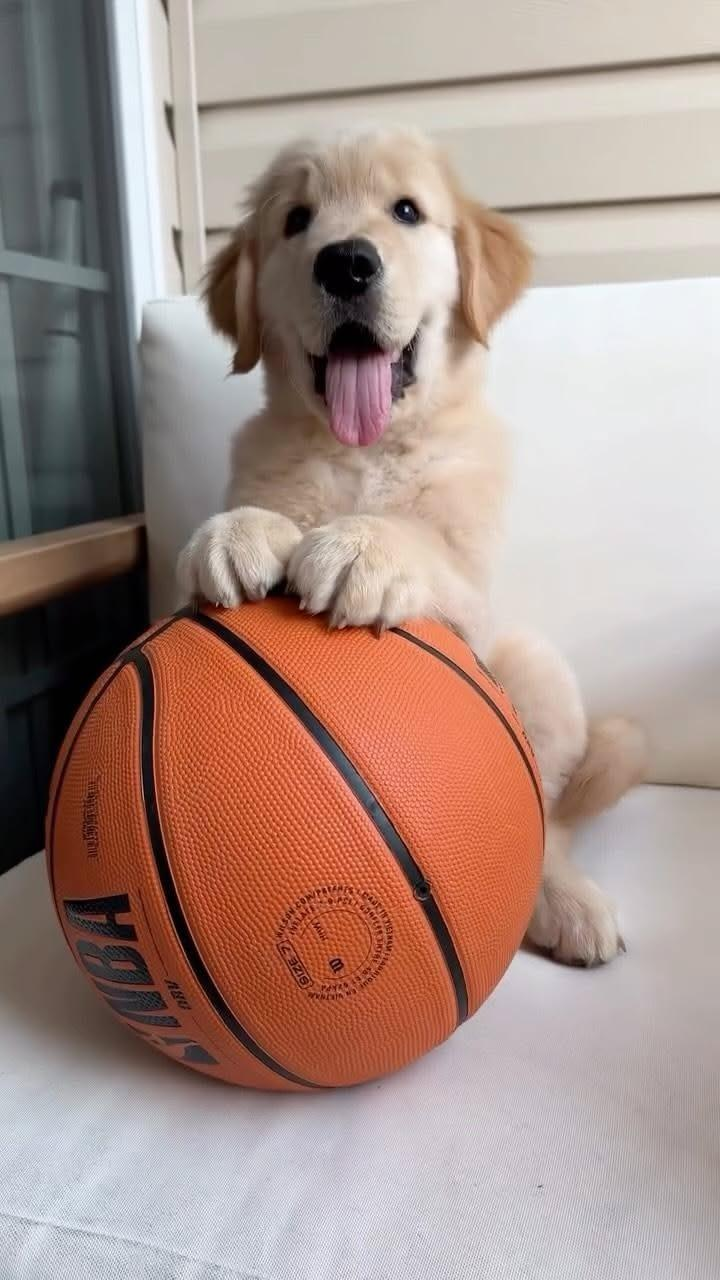non-dog: (44, 591, 548, 1093)
puppy-dog: (174, 125, 649, 969)
